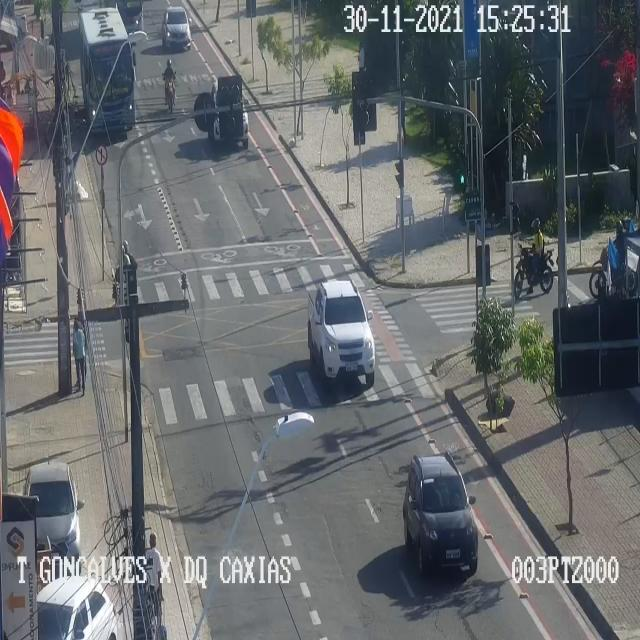Bus: (79, 6, 137, 129), (109, 0, 150, 38)
Car: (15, 458, 94, 574), (403, 453, 477, 575), (22, 555, 122, 640), (306, 279, 374, 388), (203, 79, 257, 151), (161, 6, 193, 50)
Motorcycle: (589, 215, 639, 298), (515, 215, 553, 299), (162, 59, 176, 112)
